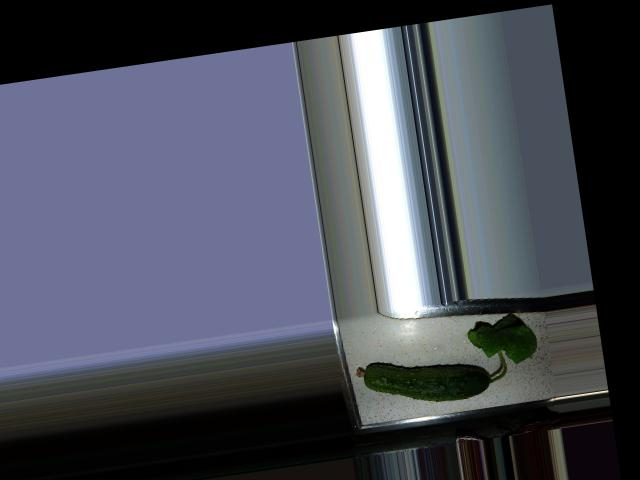cucumber: (354, 347, 493, 413)
